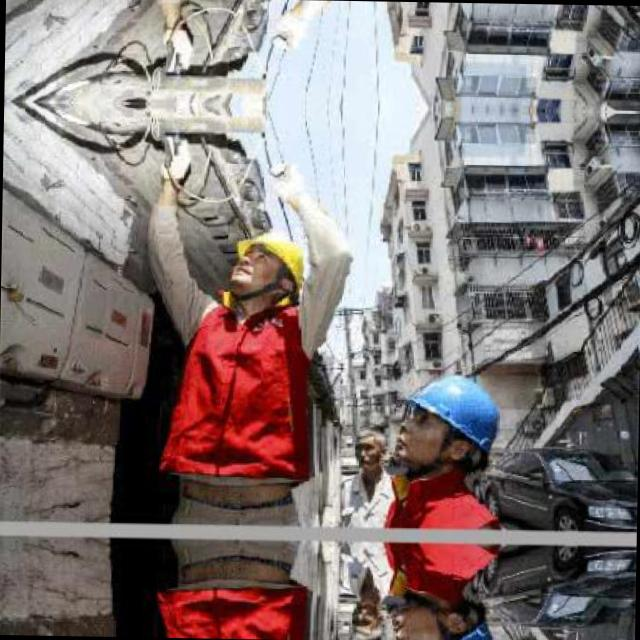helmet: (382, 362, 503, 482), (218, 232, 316, 304), (379, 585, 500, 640)
